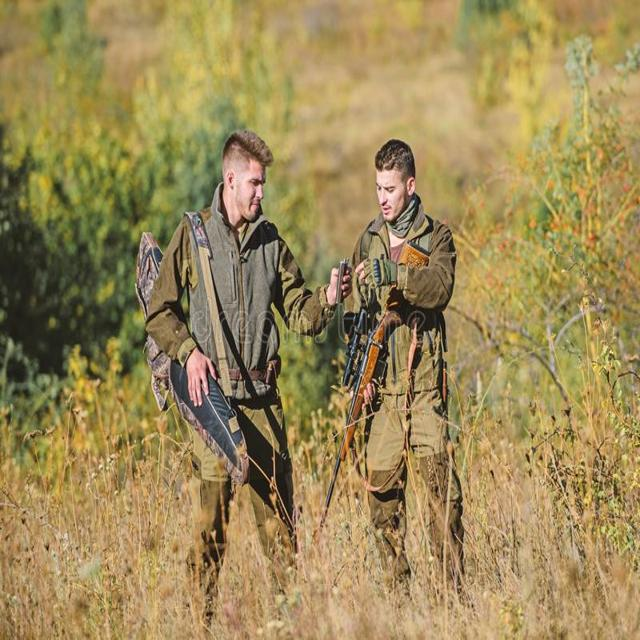gun: (293, 261, 429, 556)
poacher: (82, 113, 362, 637), (272, 116, 515, 617)
